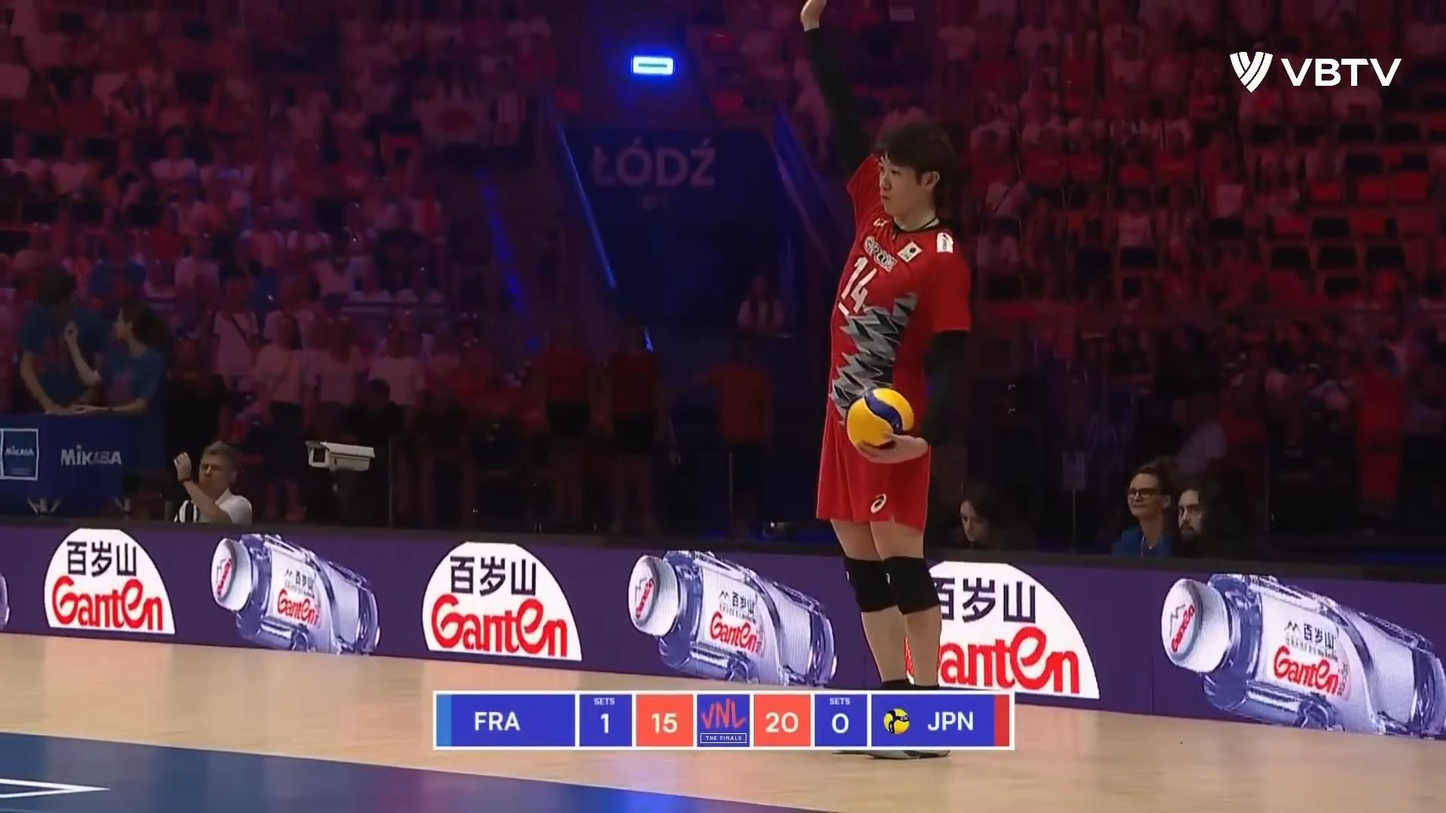ball: (847, 388, 914, 453)
